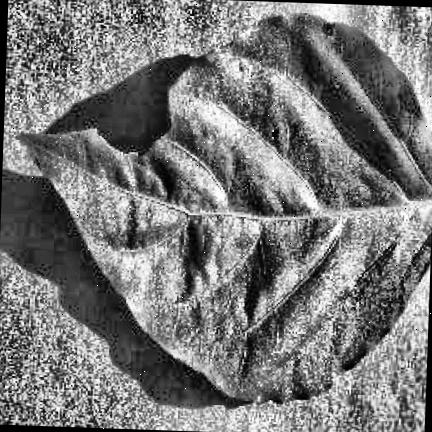leaf: (21, 15, 432, 401)
